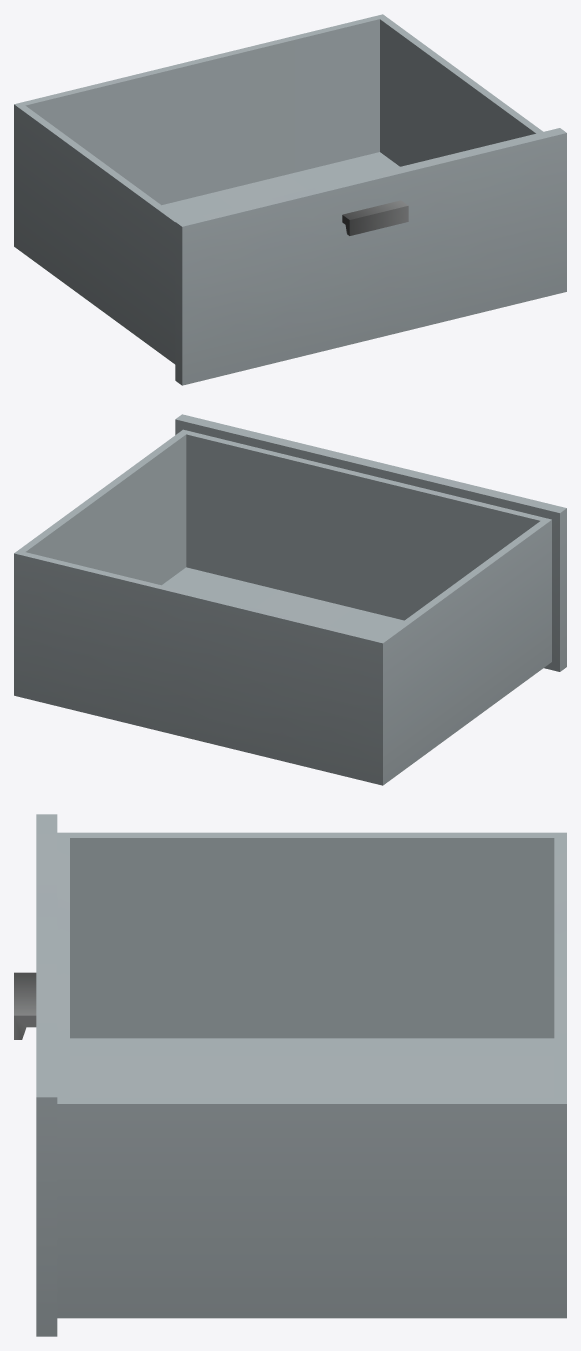
Rendered from Drawer_SideboardCabinet_WhiteGray_large.fbx.
3 renders of one model, top to bottom at view 1: azimuth 30°, elevation 25°; view 2: azimuth 150°, elevation 25°; view 3: azimuth 270°, elevation 25°, orthographic. The views are drawn at different scales.
Parts seen in each view (by area): view 1: Drawer_SideboardCabinet_WhiteGray_large; view 2: Drawer_SideboardCabinet_WhiteGray_large; view 3: Drawer_SideboardCabinet_WhiteGray_large.
Boxes of the visible parts, <box> form: Drawer_SideboardCabinet_WhiteGray_large: <box>14,14,566,385</box>; Drawer_SideboardCabinet_WhiteGray_large: <box>14,414,566,785</box>; Drawer_SideboardCabinet_WhiteGray_large: <box>14,814,566,1336</box>.
Bounding box in the file's own units: 78.47 × 30.96 × 64.83.
